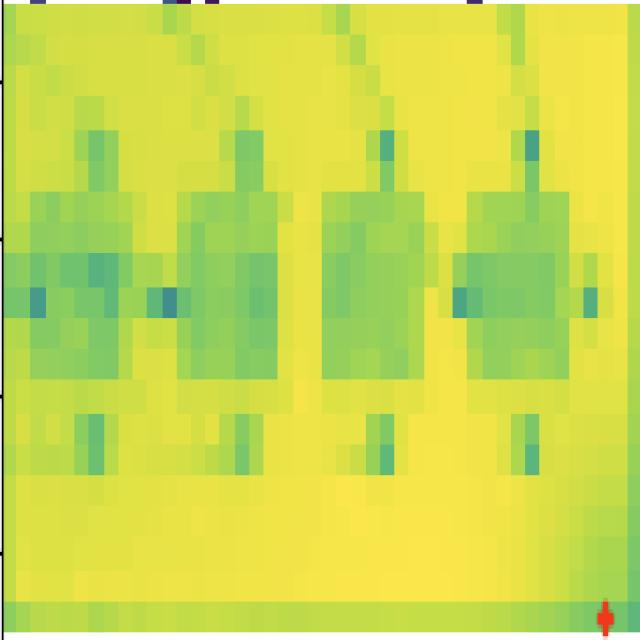Concrete: (167, 160, 294, 400)
Glass: (16, 166, 136, 401)
Metal: (311, 173, 435, 408)
Wood: (460, 164, 580, 398)
